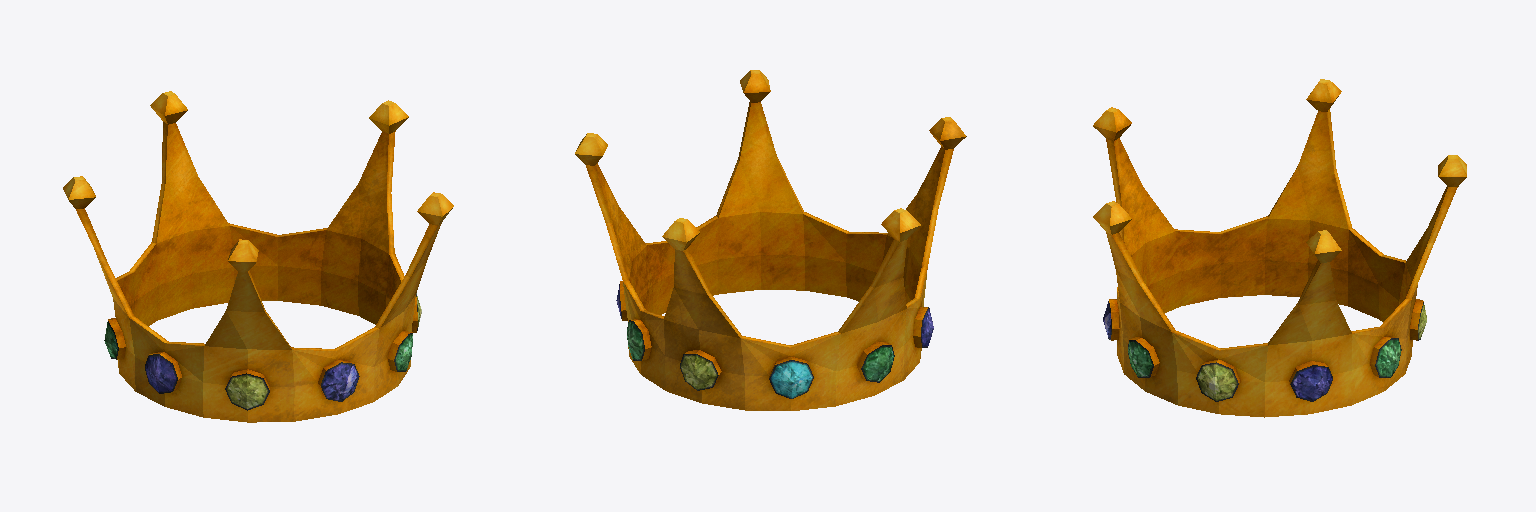
The picture shows the model from 3 angles: view 1: azimuth 30°, elevation 25°; view 2: azimuth 150°, elevation 25°; view 3: azimuth 270°, elevation 25°; orthographic projection.
Parts seen in each view (by area): view 1: crownmesh; view 2: crownmesh; view 3: crownmesh.
Part boxes in pixels (bbox=[...]): crownmesh: bbox=[63, 91, 453, 422]; crownmesh: bbox=[575, 70, 966, 410]; crownmesh: bbox=[1093, 79, 1466, 417].
Bounding box in the file's own units: 2.52 × 1.4 × 2.4.
1 materials, 1 textured.